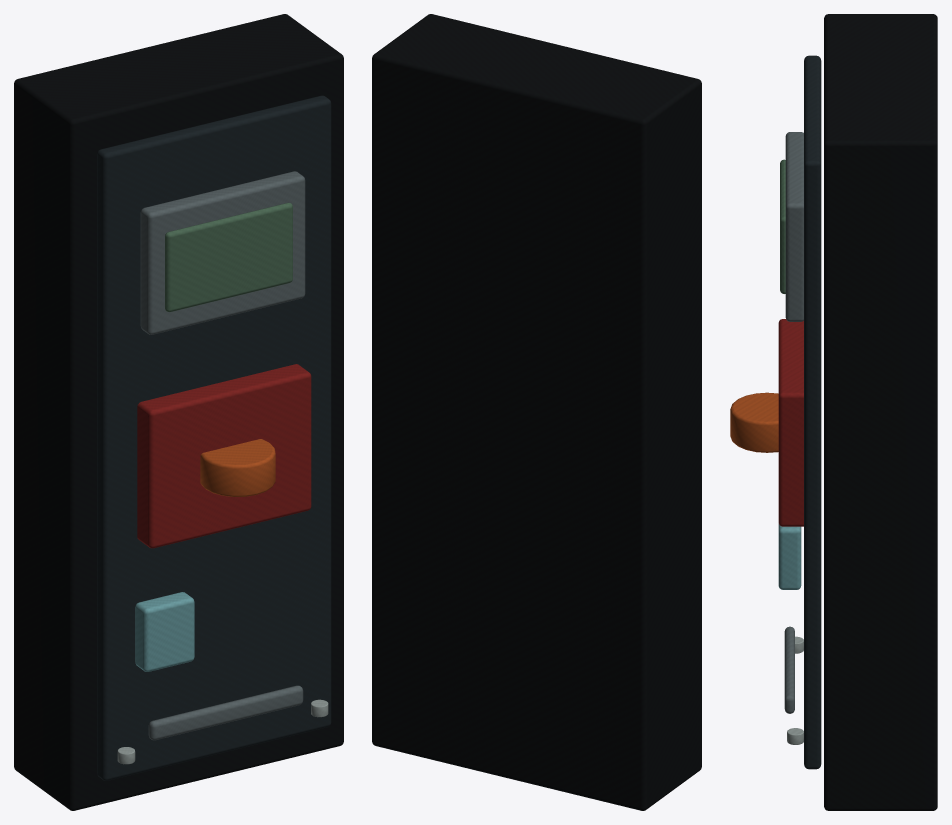
The model's file is BlastDoorControl.fbx.
3 views of the same model, side by side, from view 1: azimuth 30°, elevation 25°; view 2: azimuth 150°, elevation 25°; view 3: azimuth 270°, elevation 25° (orthographic). The views are drawn at different scales.
Visible parts, largest first — view 1: BlastDoorControl_Mesh; view 2: BlastDoorControl_Mesh; view 3: BlastDoorControl_Mesh.
Boxes of the visible parts, <box> form: BlastDoorControl_Mesh: <box>14,14,343,810</box>; BlastDoorControl_Mesh: <box>372,14,701,810</box>; BlastDoorControl_Mesh: <box>730,14,937,810</box>.
Size of the model in its own units: 54 by 130 by 36.5.
Materials: 8 (8 with a texture image).
